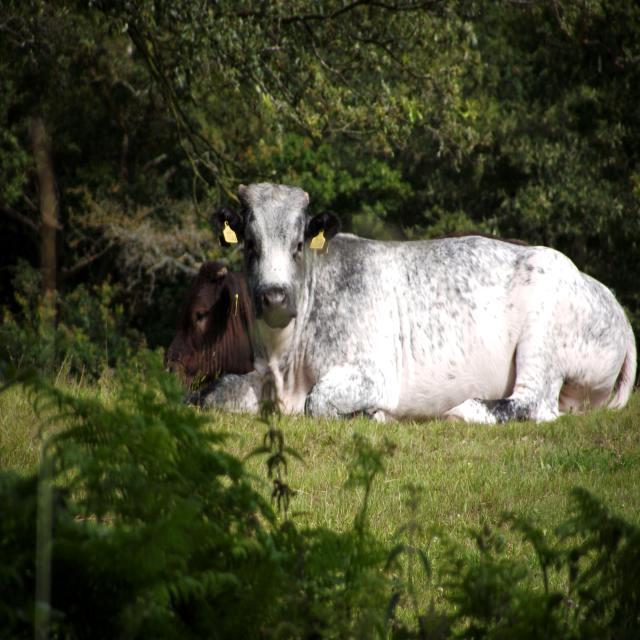COW: (189, 183, 636, 423)
